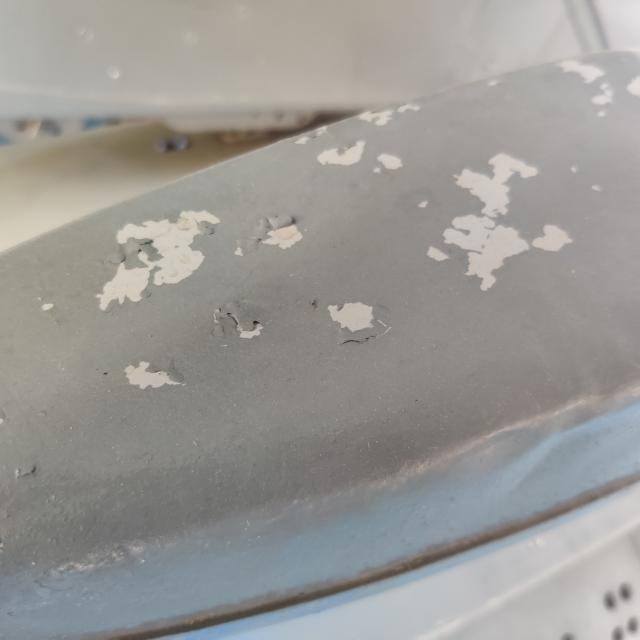paint-off: (411, 143, 590, 304), (90, 200, 226, 323), (553, 49, 640, 121), (311, 288, 397, 354), (114, 349, 195, 402), (207, 297, 272, 348), (353, 95, 427, 132), (251, 207, 308, 255), (310, 133, 372, 176), (366, 147, 408, 178)
